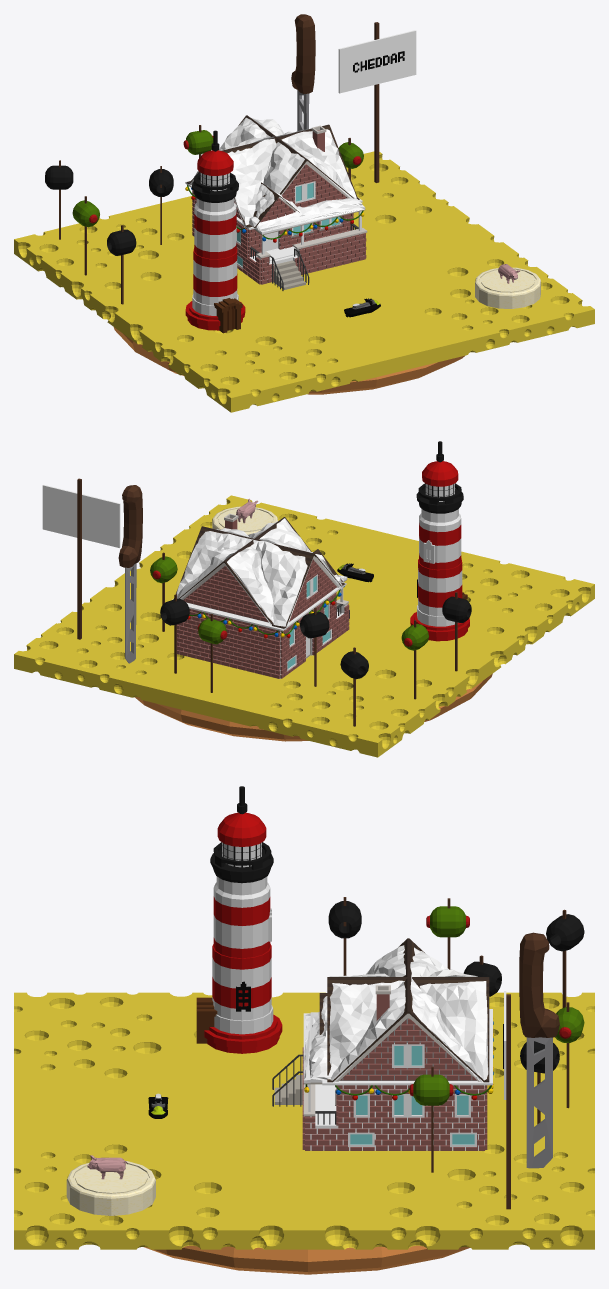
3 renders of one model, top to bottom at view 1: azimuth 30°, elevation 25°; view 2: azimuth 150°, elevation 25°; view 3: azimuth 270°, elevation 25°, orthographic. The views are drawn at different scales.
Parts seen in each view (by area): view 1: Cube.022, Cube.1419, OBJRANDOM_LIGHTHOUSE, Cube.023, Cylinder.016, Cube.024, UNDERGROUND_PIZZA, Sphere.017, Sphere.016, Sphere.018, Sphere.020, Sphere.022 (+1 smaller); view 2: Cube.022, Cube.1419, OBJRANDOM_LIGHTHOUSE, Cube.023, Cube.024, UNDERGROUND_PIZZA, Cylinder.016, Sphere.017, Sphere.020, Sphere.021, Sphere.022, Sphere.016 (+2 smaller); view 3: Cube.022, Cube.1419, OBJRANDOM_LIGHTHOUSE, Cube.024, UNDERGROUND_PIZZA, Cylinder.016, Sphere.016, Sphere.019, Cube.023, Sphere.018, Sphere.017, Sphere.022 (+1 smaller).
Part boxes in pixels (x1,y1,x2,y2): Cube.022: (14, 151, 594, 412); Cube.1419: (185, 115, 367, 290); OBJRANDOM_LIGHTHOUSE: (185, 130, 245, 333); Cube.023: (338, 22, 416, 182); Cylinder.016: (475, 267, 540, 308); Cube.024: (291, 14, 315, 130); UNDERGROUND_PIZZA: (113, 327, 464, 394); Sphere.017: (107, 225, 136, 304); Sphere.016: (45, 160, 73, 239); Sphere.018: (72, 196, 99, 275); Sphere.020: (149, 166, 173, 244); Sphere.022: (183, 125, 213, 157); Cube.022: (14, 495, 594, 757); Cube.1419: (172, 513, 349, 678); OBJRANDOM_LIGHTHOUSE: (410, 441, 469, 641); Cube.023: (42, 478, 120, 639); Cube.024: (118, 485, 142, 663); UNDERGROUND_PIZZA: (135, 673, 492, 741); Cylinder.016: (212, 506, 277, 534); Sphere.017: (442, 592, 471, 671); Sphere.020: (300, 607, 329, 686); Sphere.021: (160, 594, 189, 673); Sphere.022: (197, 614, 227, 692); Sphere.016: (340, 647, 368, 726); Cube.022: (14, 992, 594, 1249); Cube.1419: (272, 938, 493, 1150); OBJRANDOM_LIGHTHOUSE: (196, 786, 282, 1053); Cube.024: (519, 932, 559, 1168); UNDERGROUND_PIZZA: (144, 1245, 469, 1274); Cylinder.016: (66, 1161, 155, 1215); Sphere.016: (546, 909, 584, 1007); Sphere.019: (409, 1066, 453, 1172); Cube.023: (503, 991, 510, 1209); Sphere.018: (426, 898, 469, 969); Sphere.017: (328, 897, 361, 975); Sphere.022: (555, 1002, 584, 1108).
Size of the model in its own units: 3917 by 2343 by 4000.
Materials: 46 (3 with a texture image).
